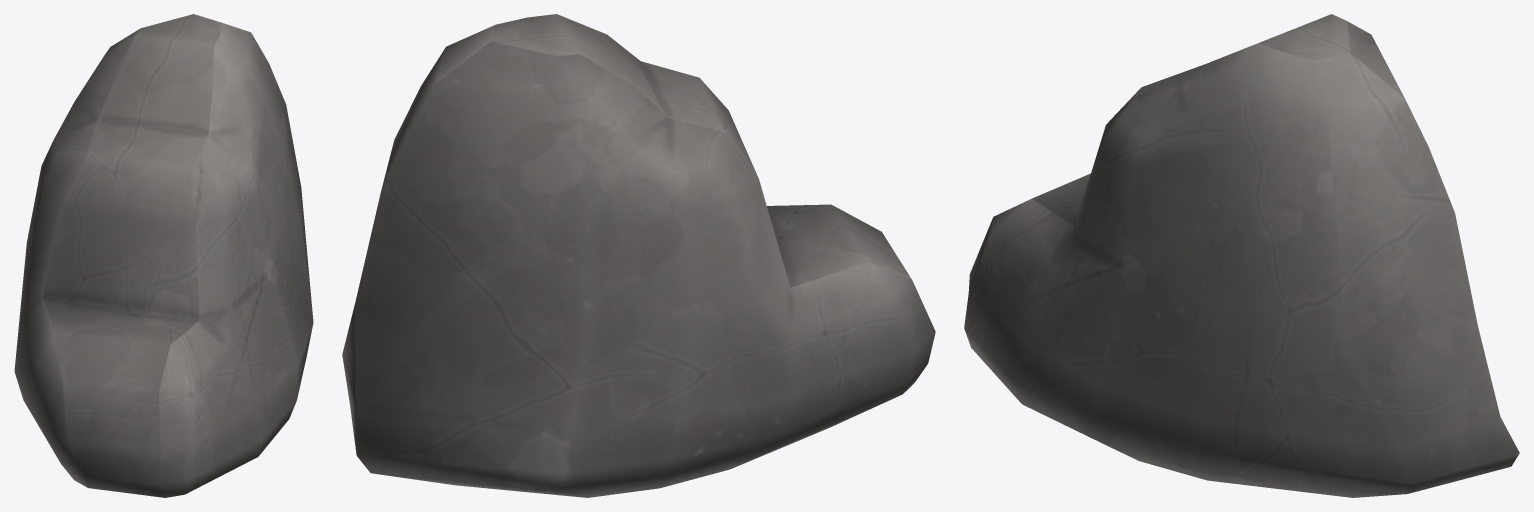
File: Stones01_3.FBX
3 renders of one model, left to right at view 1: azimuth 30°, elevation 25°; view 2: azimuth 150°, elevation 25°; view 3: azimuth 270°, elevation 25°, orthographic. The views are drawn at different scales.
Parts seen in each view (by area): view 1: Stones01_3; view 2: Stones01_3; view 3: Stones01_3.
Boxes of the visible parts, bbox=[...] form: Stones01_3: bbox=[14, 14, 313, 497]; Stones01_3: bbox=[342, 14, 935, 497]; Stones01_3: bbox=[964, 14, 1519, 497].
Size of what is drawn, in the model's own units: 1.92 by 1.8 by 2.12.
